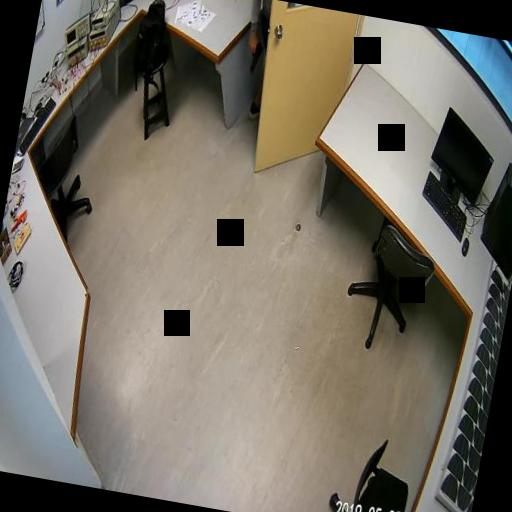Handgun: (242, 35, 262, 72)
